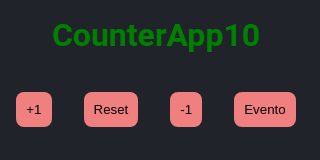
Test: Pruebas de el <CouterApp/> › debe de incrementar con el boton +1
Step 1. Click the button "+1" → (34, 109), box top-left (16, 92), bottom-right (52, 127)
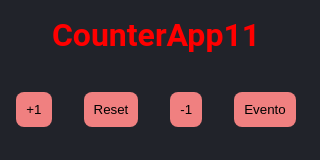
Now the text "11" is shown, box top-left (223, 16), bottom-right (260, 54)
